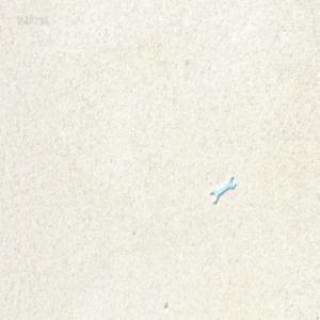Wrenchtrack_idkeyframe: (209, 172, 235, 201)
